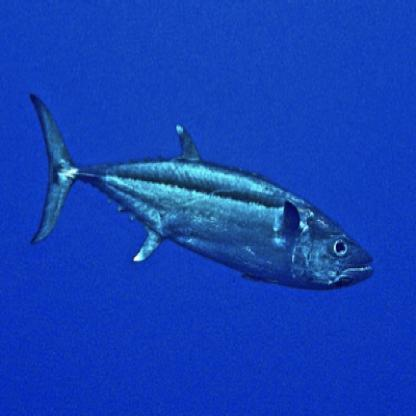Bio: (25, 86, 376, 292)
